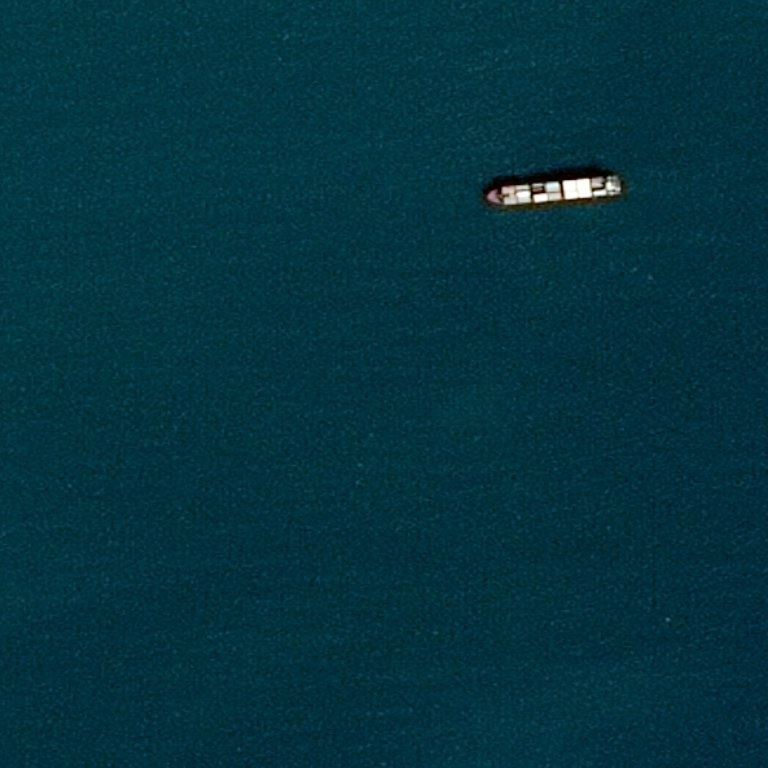ship: (487, 171, 623, 207)
